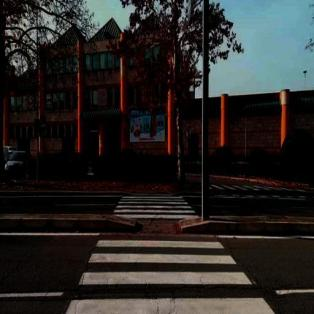Paso de Cebra: (76, 249, 255, 291), (111, 204, 197, 214)
